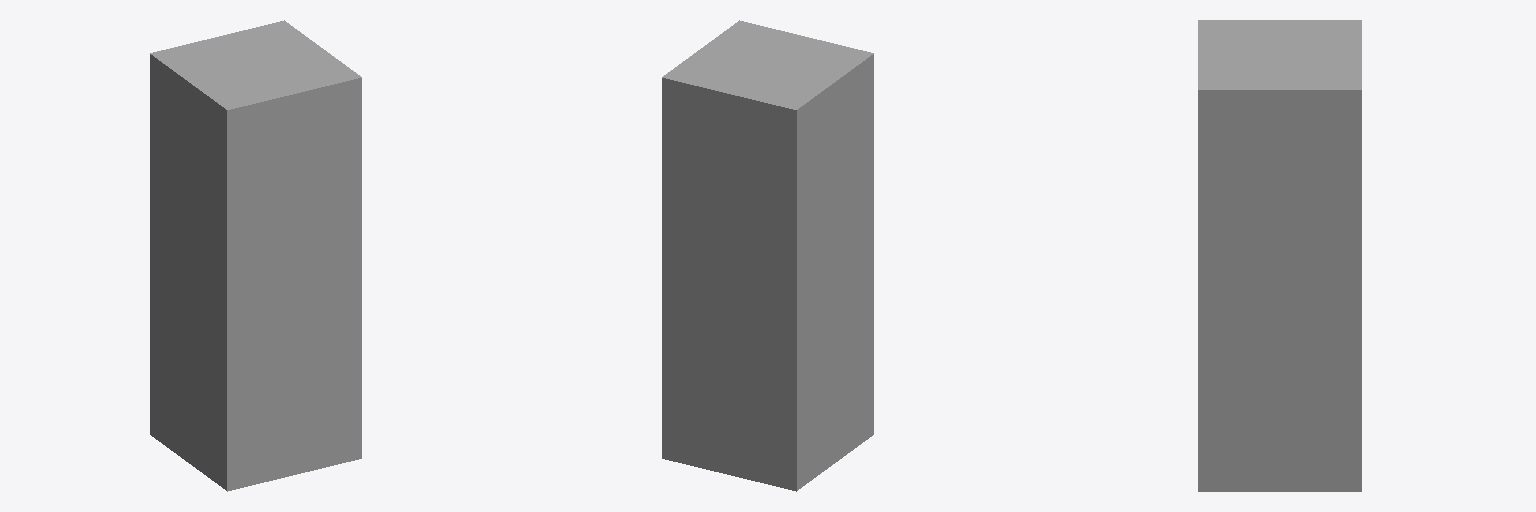
robot.urdf — beaker:
<?xml version="1.0"?>
<!-- Generated by make_models.py; extents match cuTAMP's ENTITIES cuboid. -->
<robot name="beaker">
  <link name="base_link">
    <inertial>
      <origin xyz="0 0 0"/>
      <mass value="0.2"/>
      <inertia ixx="0.00034541666666666667" ixy="0" ixz="0" iyy="0.00034541666666666667" iyz="0" izz="8.333333333333336e-05"/>
    </inertial>
    <visual>
      <origin xyz="0 0 0"/>
      <geometry><box size="0.05 0.05 0.135"/></geometry>
      <material name="grey"><color rgba="0.7 0.7 0.7 1"/></material>
    </visual>
    <collision>
      <origin xyz="0 0 0"/>
      <geometry><box size="0.05 0.05 0.135"/></geometry>
    </collision>
  </link>
</robot>

--- What the picture shows (computed from the rendered views, not written in the file) ---
3 views of the same robot in one strip: view 1: azimuth 30°, elevation 25°; view 2: azimuth 150°, elevation 25°; view 3: azimuth 270°, elevation 25° (orthographic).
Robot: beaker — 1 links, 0 joints (none); root link base_link; default pose: all joints at 0.
Visible links, largest first — view 1: base_link; view 2: base_link; view 3: base_link.
Boxes of the visible links, x1,y1,x2,y2 form: base_link: (150,20,361,491); base_link: (662,20,873,491); base_link: (1198,20,1361,491).
Size in the robot's own frame: 0.05 by 0.05 by 0.135 metres.
Geometry: primitives only (box / cylinder / sphere), no mesh files.
